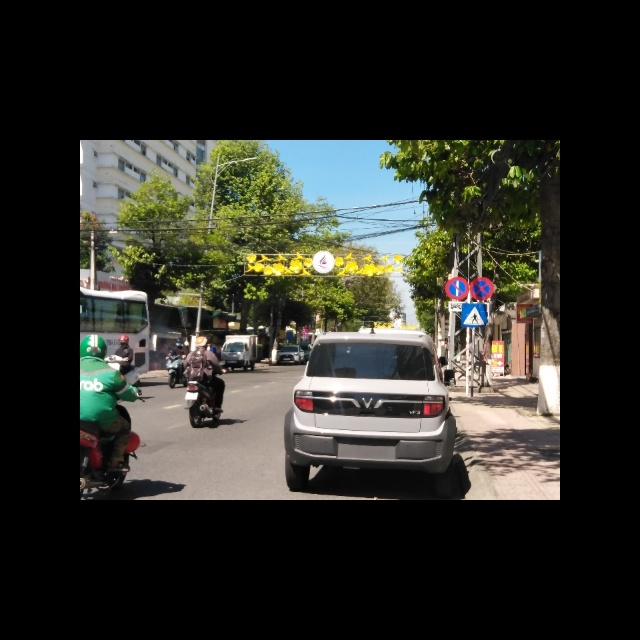Cấm dừng xe và đỗ xe: (469, 277, 493, 300)
Cấm đỗ xe ngày lẻ: (444, 276, 469, 300)
Đường dành cho người đi bộ: (461, 303, 487, 329)
